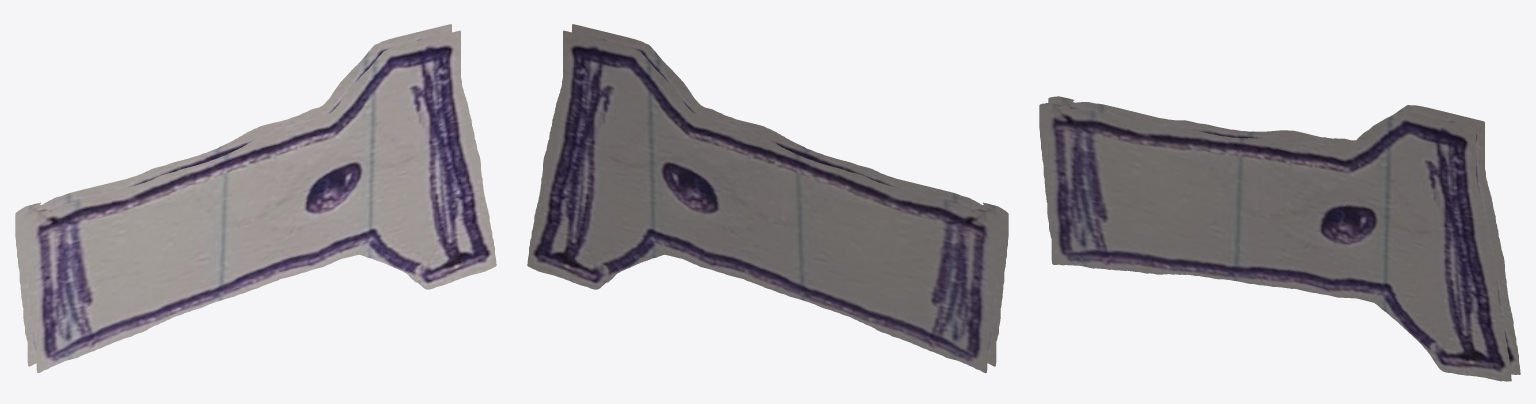
Rendered from Zsaklamp.fbx.
3 renders of one model, left to right at view 1: azimuth 30°, elevation 25°; view 2: azimuth 150°, elevation 25°; view 3: azimuth 330°, elevation 25°, orthographic.
Parts seen in each view (by area): view 1: Plane; view 2: Plane; view 3: Plane.
Boxes of the visible parts, bbox=[...] form: Plane: bbox=[15, 24, 496, 373]; Plane: bbox=[527, 24, 1008, 373]; Plane: bbox=[1039, 96, 1520, 381].
Bounding box in the file's own units: 865 × 441 × 28.35.
Materials: 1 (1 with a texture image).
